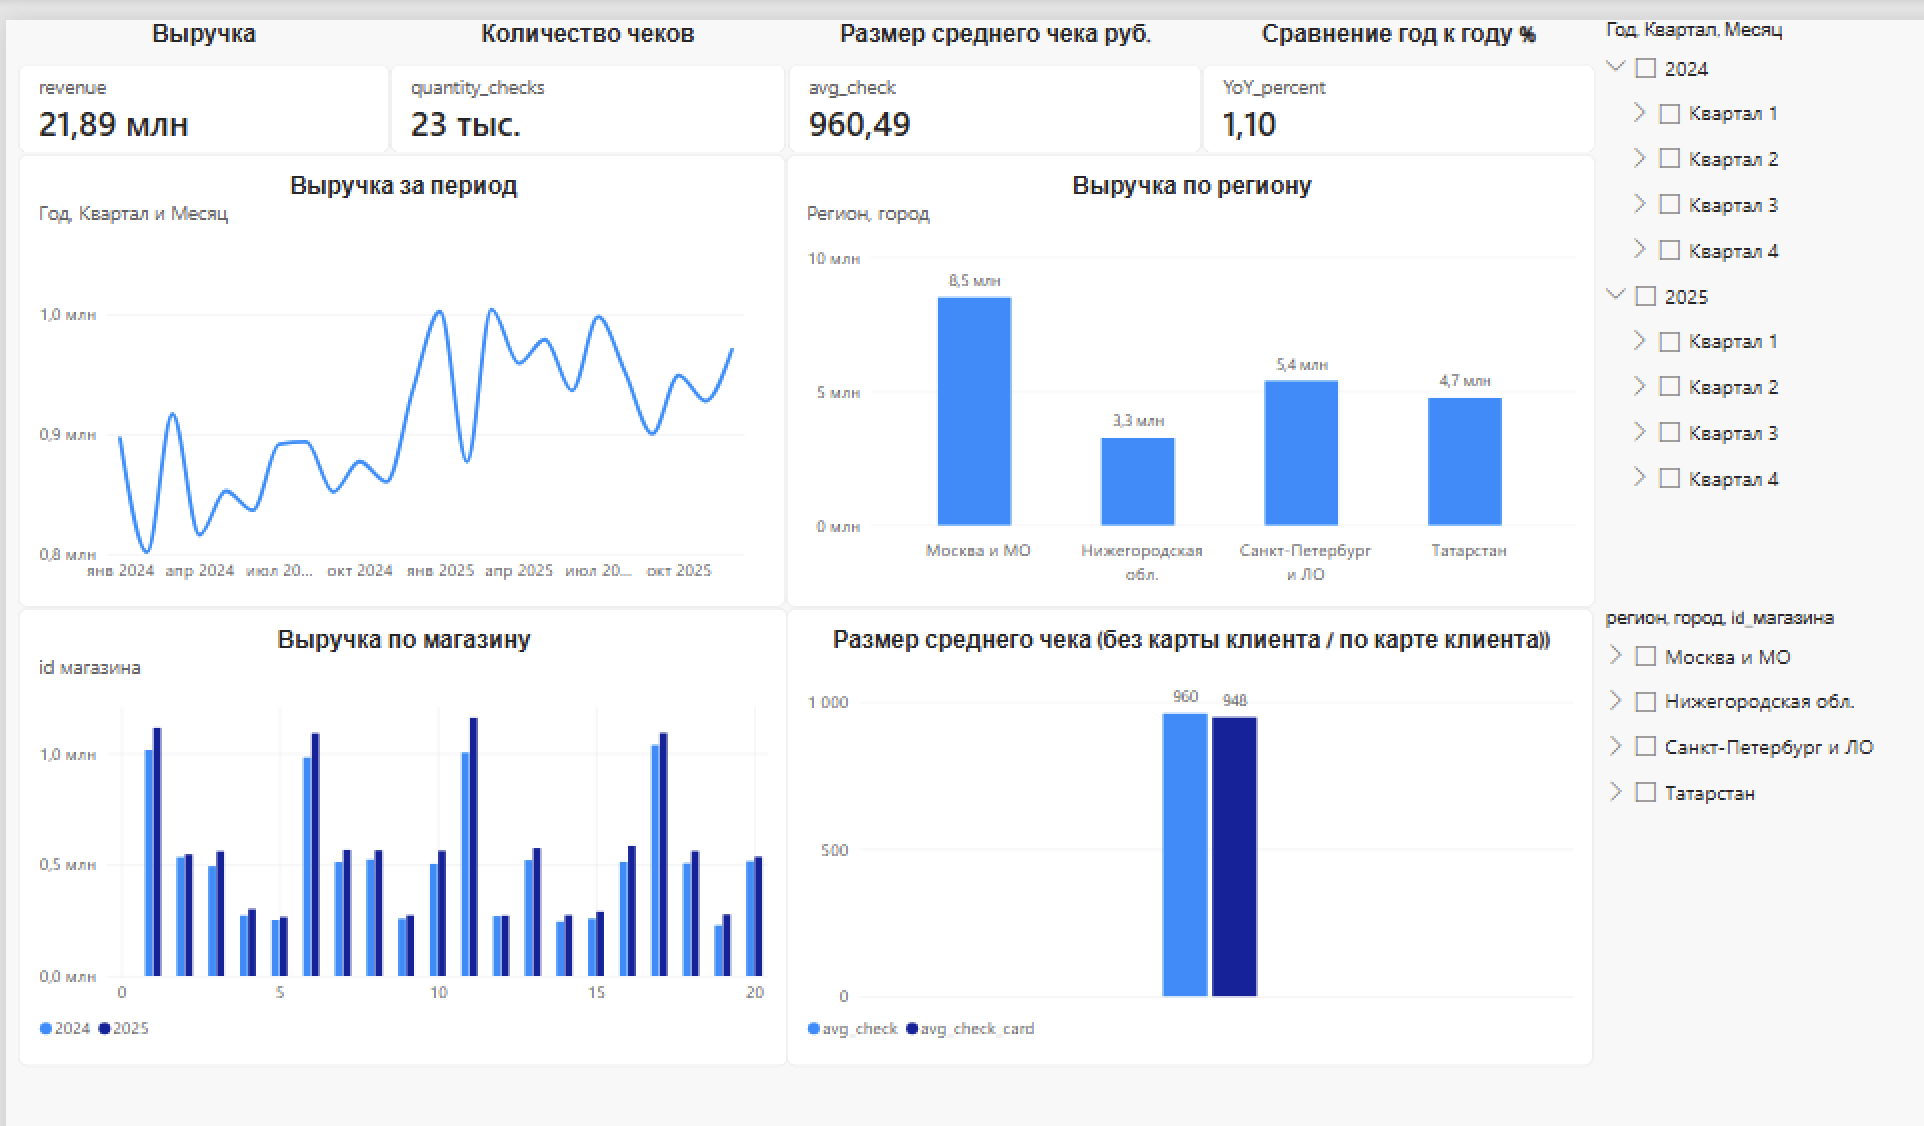

This screenshot's page, from the dashboard's own definition file:
{"tool":"powerbi","page":{"name":"Sales Sosedushka","canvas":[1920,1080],"ordinal":0},"visuals":[{"type":"cardVisual","title":"Выручка","fields":{"Data":["fact_sales.revenue"]},"box":[10,0,310,111.7],"z":0},{"type":"cardVisual","title":"Количество чеков","fields":{"Data":["fact_sales.quantity_checks"]},"box":[320,0,330,111.7],"z":1},{"type":"cardVisual","title":"Размер среднего чека руб.","fields":{"Data":["fact_sales.avg_check"]},"box":[651.7,0,345,111.7],"z":2},{"type":"cardVisual","title":"Сравнение год к году %","fields":{"Data":["fact_sales.YoY_percent"]},"box":[996.7,0,328.3,111.7],"z":3},{"type":"lineChart","title":"Выручка за период","fields":{"Category":["fact_sales.дата_время.Изменение.Иерархия дат.Год","fact_sales.дата_время.Изменение.Иерархия дат.Квартал","fact_sales.дата_время.Изменение.Иерархия дат.Месяц"],"Y":["fact_sales.revenue"]},"box":[10,111.7,640,378.3],"z":4},{"type":"clusteredColumnChart","title":"Выручка по магазину","fields":{"Category":["fact_sales.id_магазина"],"Series":["fact_sales.дата_время.Изменение.Иерархия дат.Год"],"Y":["fact_sales.revenue"]},"box":[10,490,641.7,381.7],"z":5},{"type":"clusteredColumnChart","title":"Размер среднего чека (без карты клиента / по карте клиента))","fields":{"Y":["fact_sales.avg_check","fact_sales.avg_check_card"]},"box":[650,490,673.3,381.7],"z":6},{"type":"clusteredColumnChart","title":"Выручка по региону","fields":{"Category":["dim_stores.регион","dim_stores.город"],"Y":["fact_sales.revenue"]},"box":[650,111.7,675,378.3],"z":7},{"type":"slicer","fields":{"Values":["dim_stores.регион","dim_stores.город","dim_stores.id_магазина"]},"box":[1325,490,280,381.7],"z":8},{"type":"slicer","fields":{"Values":["fact_sales.дата_время.Изменение.Иерархия дат.Год","fact_sales.дата_время.Изменение.Иерархия дат.Квартал","fact_sales.дата_время.Изменение.Иерархия дат.Месяц"]},"box":[1325,0,280,456.7],"z":9}]}

Visuals, with their boxes on the page's 1920x1080 design canvas (x1, y1, x2, y2). These are canvas units, not pixel positions in the 1924x1126 screenshot, which may show the page scaled, cropped or inside an application window:
"Выручка" cardVisual: [10,0,320,112]
"Количество чеков" cardVisual: [320,0,650,112]
"Размер среднего чека руб." cardVisual: [652,0,997,112]
"Сравнение год к году %" cardVisual: [997,0,1325,112]
"Выручка за период" lineChart: [10,112,650,490]
"Выручка по магазину" clusteredColumnChart: [10,490,652,872]
"Размер среднего чека (без карты клиента / по карте клиента))" clusteredColumnChart: [650,490,1323,872]
"Выручка по региону" clusteredColumnChart: [650,112,1325,490]
slicer - dim_stores.регион x dim_stores.город: [1325,490,1605,872]
slicer - fact_sales.дата_время.Изменение.Иерархия дат.Год x fact_sales.дата_время.Изменение.Иерархия дат.Квартал: [1325,0,1605,457]
